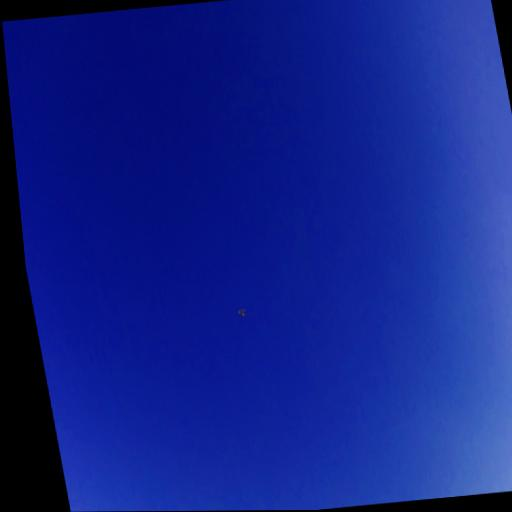drones: (236, 307, 247, 319)
